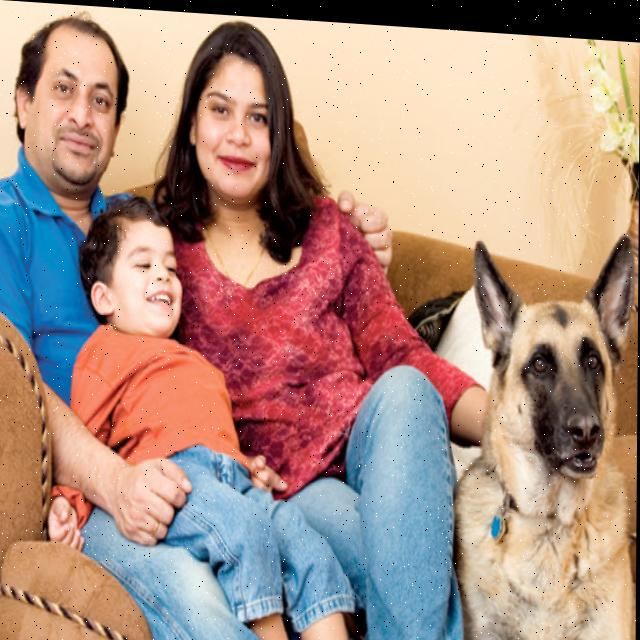GERMAN_SHEPHERD: (437, 196, 639, 640)
